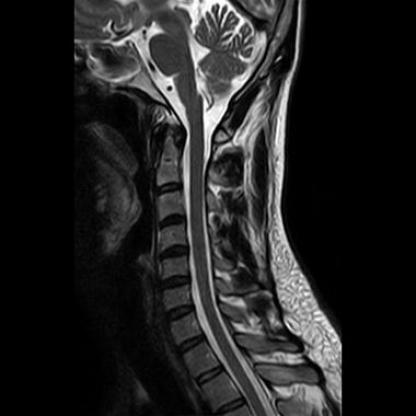Degenerative Disc Diseaserotation: (157, 244, 190, 261), (164, 306, 197, 322), (157, 213, 186, 231)
